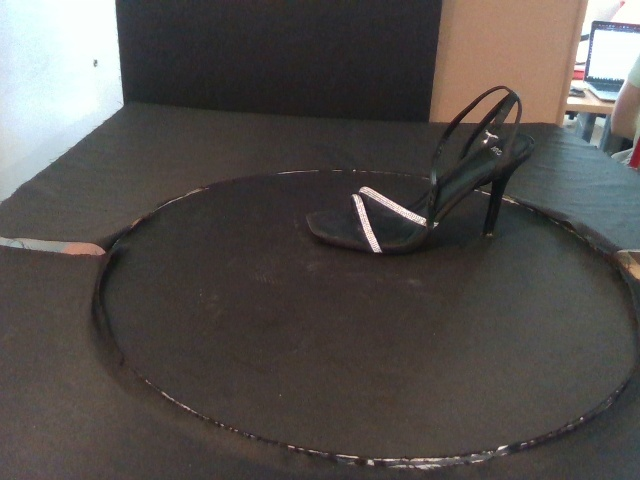shoe: (303, 84, 536, 256)
